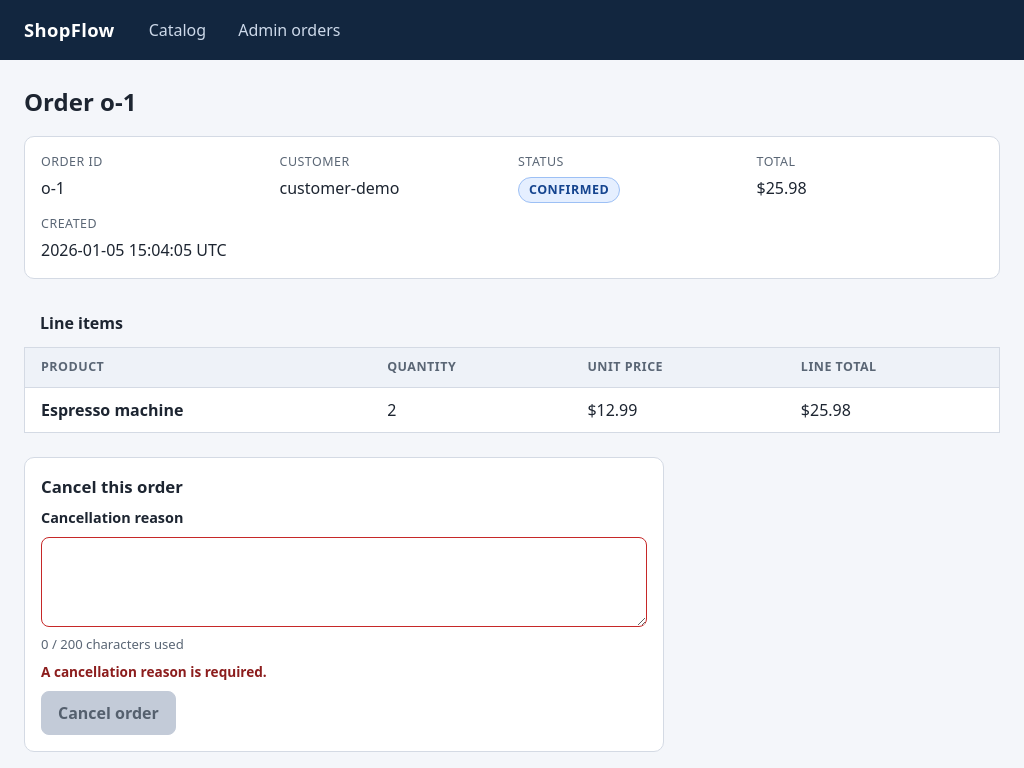
Test case: OrderDetailPage › submits the trimmed reason typed by the customer
Type "  Found a better deal  " into the text box labelled "Cancellation reason" at [344, 582], box [41,537,647,627]
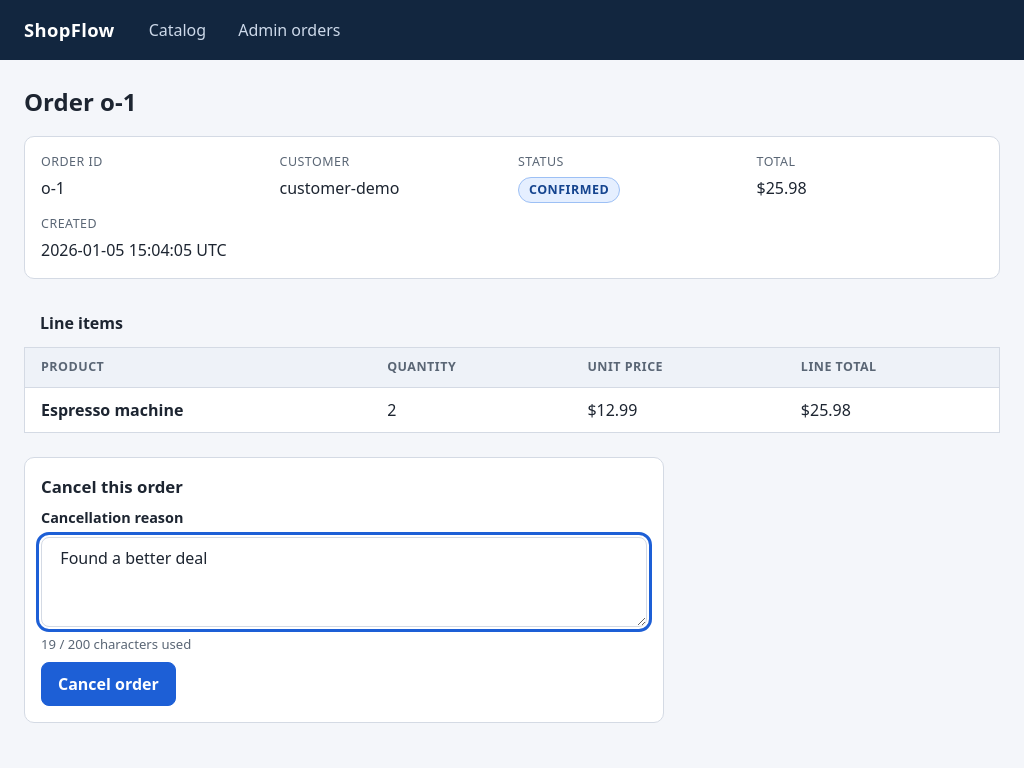
Click the button "Cancel order" at [108, 684], box [41,662,176,706]
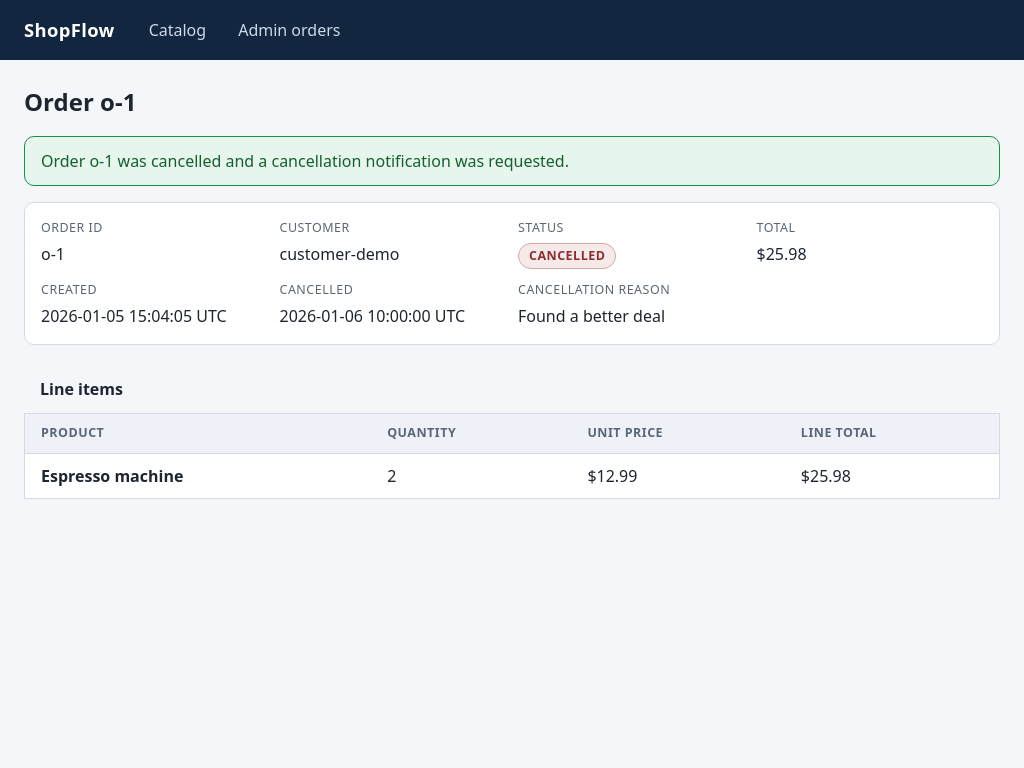
Expected: the text "CANCELLED" is shown, [518,243,616,269]
